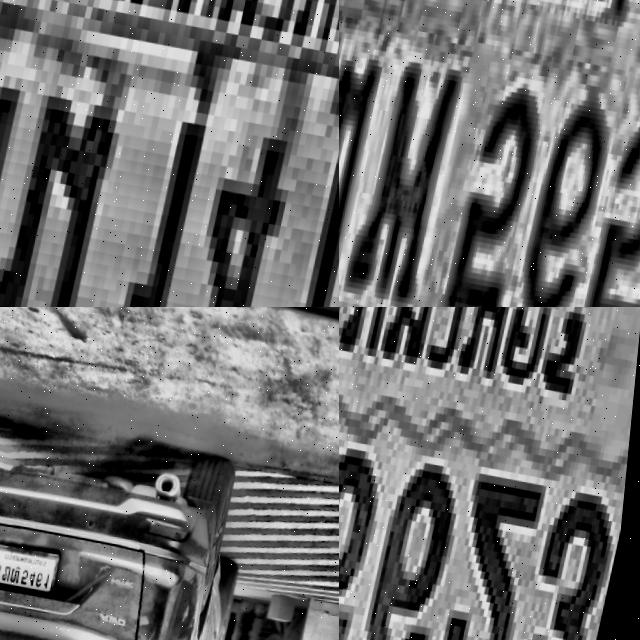license-plate: (0, 0, 339, 307), (339, 307, 640, 640), (339, 0, 640, 307), (0, 537, 68, 594)
